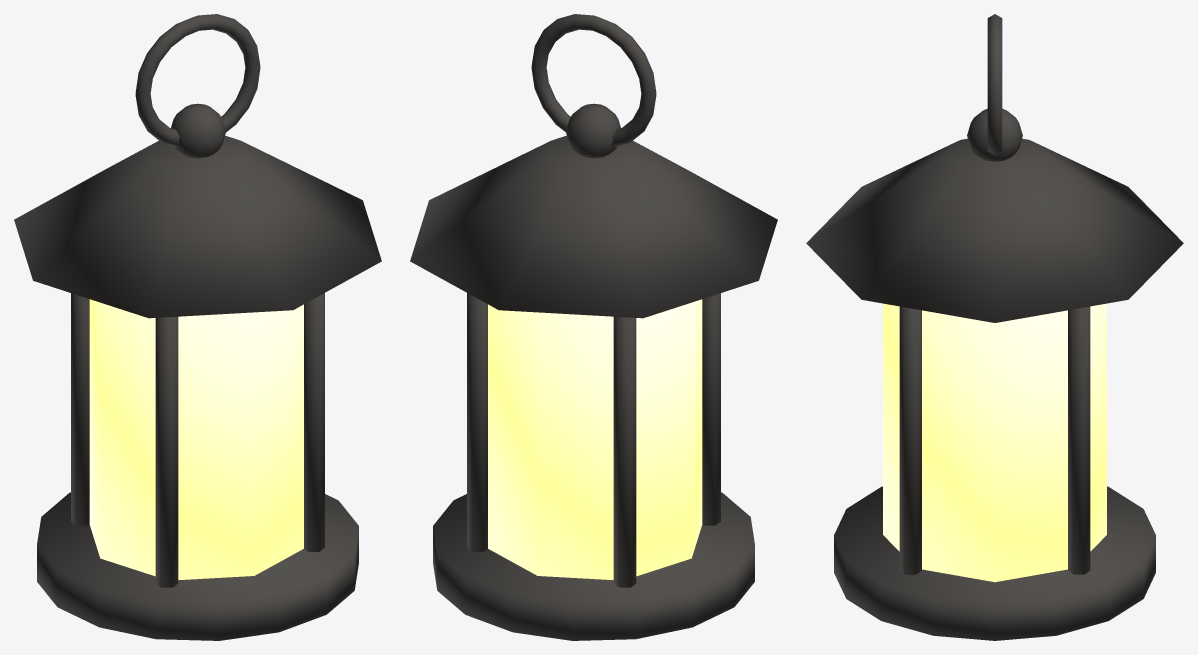
The model's file is lantern.glb.
3 renders of one model, left to right at view 1: azimuth 30°, elevation 25°; view 2: azimuth 150°, elevation 25°; view 3: azimuth 270°, elevation 25°, orthographic.
Parts seen in each view (by area): view 1: Lantern_Iron, Lantern_Glass; view 2: Lantern_Iron, Lantern_Glass; view 3: Lantern_Iron, Lantern_Glass.
Part boxes in pixels (<box>): Lantern_Iron: <box>14,14,381,640</box>; Lantern_Glass: <box>89,299,303,580</box>; Lantern_Iron: <box>410,14,777,640</box>; Lantern_Glass: <box>488,299,702,580</box>; Lantern_Iron: <box>806,14,1183,640</box>; Lantern_Glass: <box>883,303,1106,582</box>.
Size of the model in its own units: 0.54 by 0.872 by 0.54.
